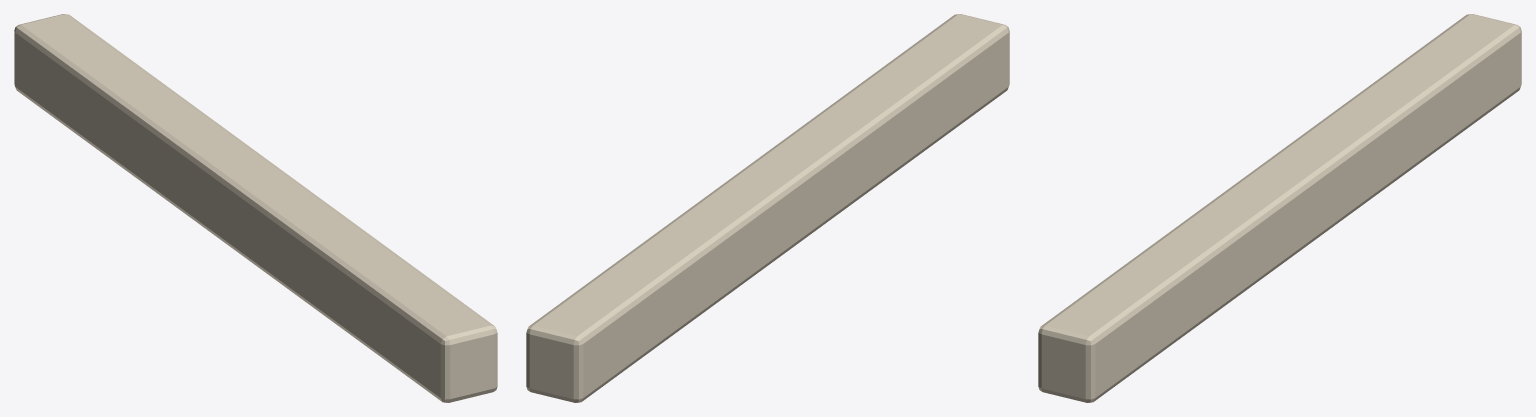
File: curb_large.glb
3 renders of one model, left to right at view 1: azimuth 30°, elevation 25°; view 2: azimuth 150°, elevation 25°; view 3: azimuth 330°, elevation 25°, orthographic.
Visible parts, largest first — view 1: curb_large_Mesh; view 2: curb_large_Mesh; view 3: curb_large_Mesh.
Part boxes in pixels (<box>): curb_large_Mesh: <box>14,14,497,402</box>; curb_large_Mesh: <box>526,14,1009,402</box>; curb_large_Mesh: <box>1038,14,1521,402</box>.
Bounding box in the file's own units: 0.15 × 0.17 × 2.
